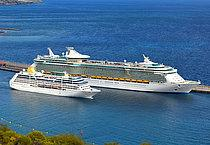Ship: (32, 46, 207, 97), (6, 68, 104, 103)
